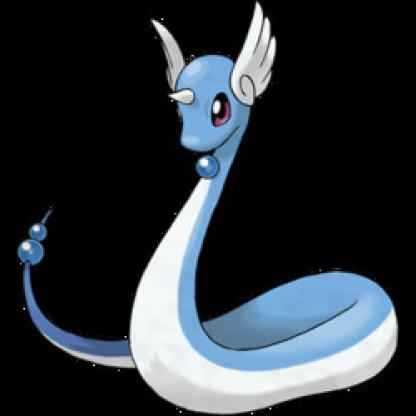Dragonair: (18, 3, 415, 415)
